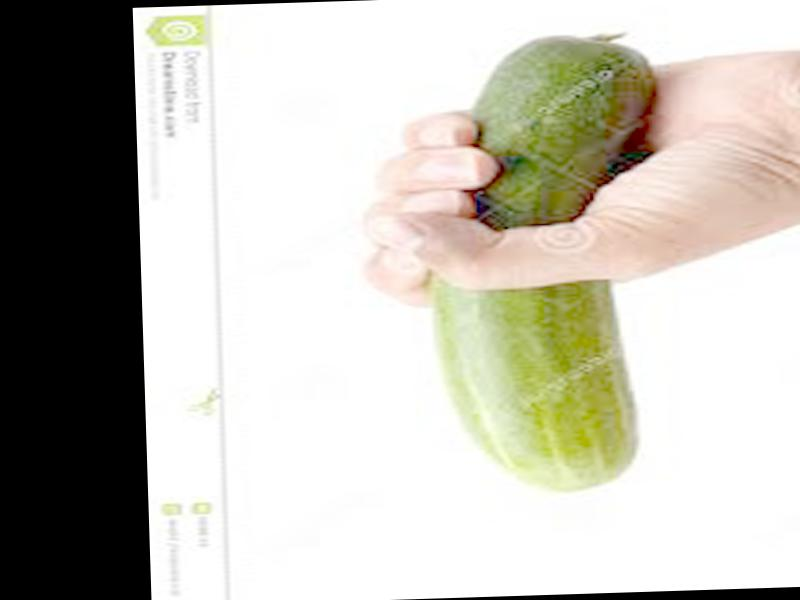Cucumber: (419, 36, 665, 497)
